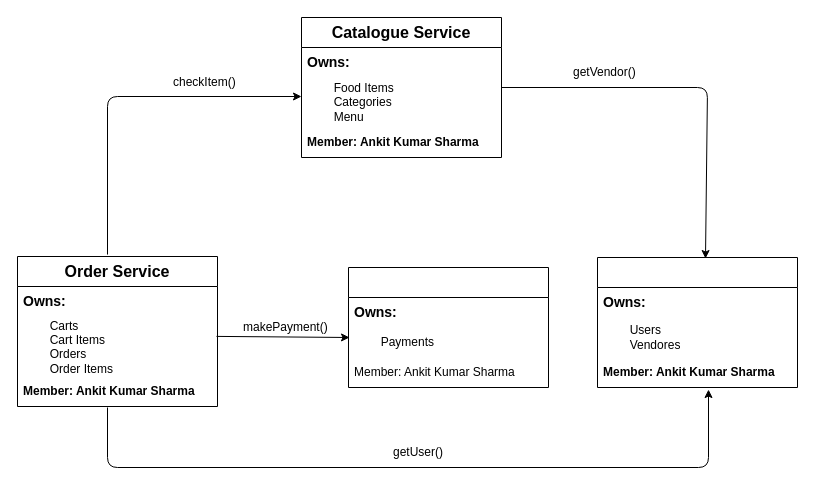
This 815x493 diagram has some shape labels left out. Here are the shapes that lost their labels. From the top down, the box of each, then its label:
(348, 266, 548, 388): Payment Service
(596, 256, 798, 388): User Service
